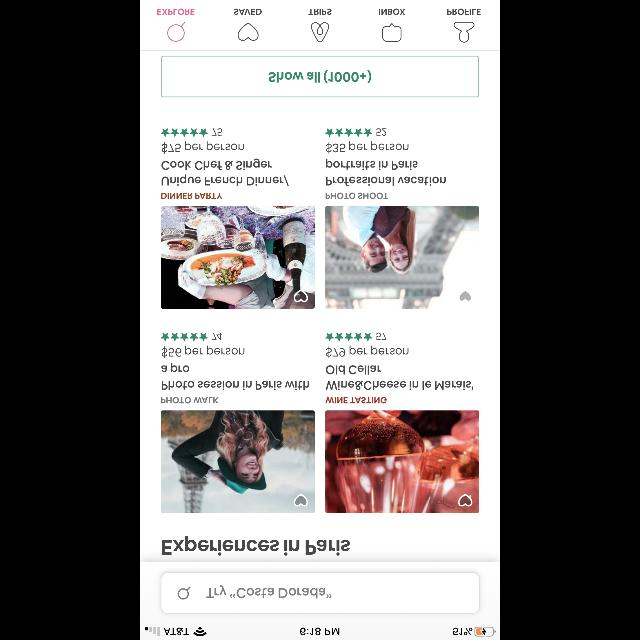icon: (162, 332, 208, 342), (454, 22, 474, 42), (382, 22, 402, 42), (326, 129, 372, 137), (162, 129, 208, 137), (326, 333, 372, 341), (238, 23, 258, 41), (167, 22, 185, 42), (294, 290, 308, 302), (294, 494, 308, 506), (458, 494, 472, 506), (178, 586, 190, 600)
image: (326, 206, 478, 308), (162, 206, 314, 308), (326, 411, 478, 513), (162, 410, 314, 512), (311, 22, 329, 42)
input: (161, 572, 479, 614)
text: (162, 536, 350, 556), (162, 158, 288, 186), (206, 586, 332, 598), (326, 380, 472, 390), (162, 382, 310, 391), (327, 158, 418, 170), (326, 177, 446, 186), (326, 142, 408, 154), (162, 142, 244, 154), (326, 346, 408, 358), (162, 346, 244, 358), (326, 366, 382, 374), (162, 396, 218, 404), (326, 193, 388, 199), (162, 193, 222, 199), (326, 397, 386, 403), (162, 362, 190, 372), (158, 9, 195, 15), (448, 9, 480, 15), (379, 8, 405, 15), (234, 9, 262, 15), (308, 9, 332, 15), (376, 128, 386, 136), (212, 128, 222, 136), (376, 332, 386, 340), (212, 332, 222, 340)
textbutton: (161, 55, 479, 97)
uppertaskbar: (140, 626, 500, 640)
